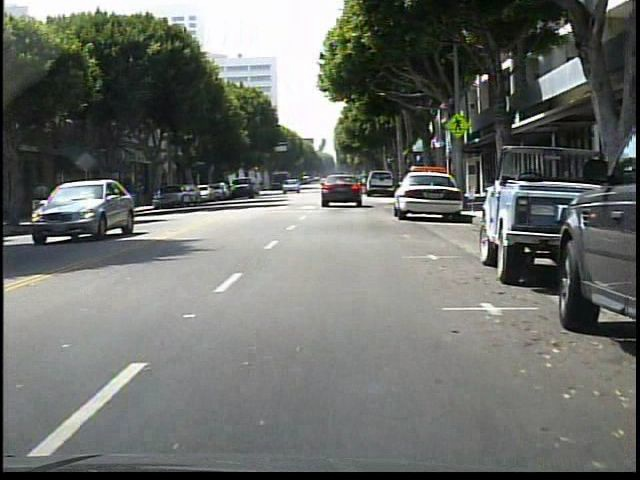person: (34, 179, 54, 224)
